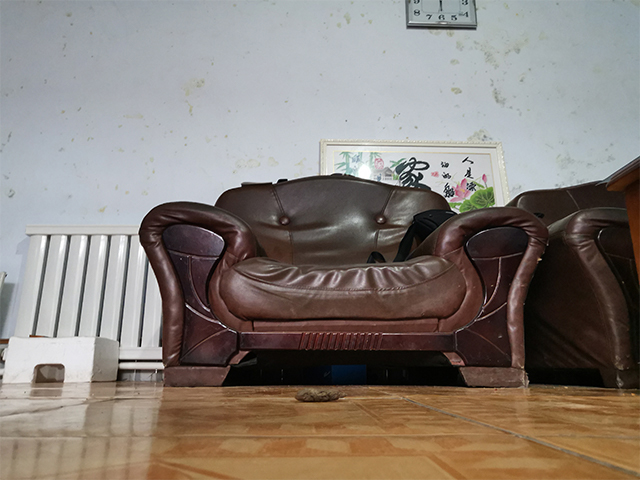feces: (292, 385, 346, 405)
sofa: (137, 165, 559, 390)
